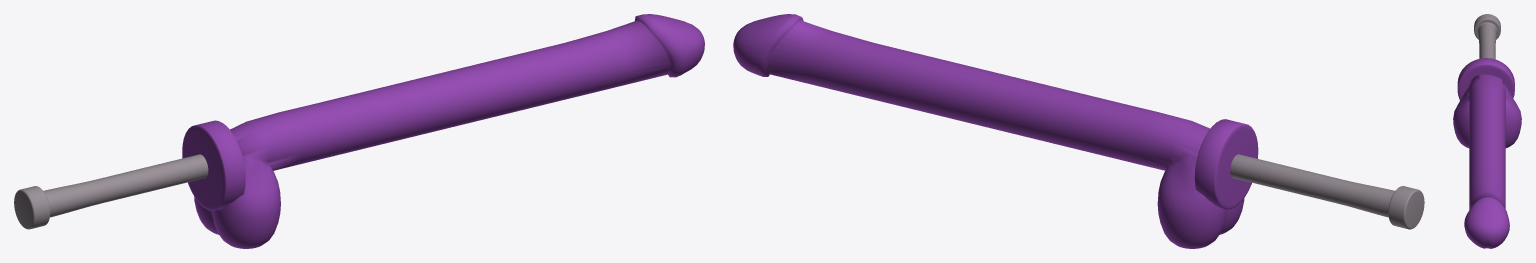
File: dickweapon.fbx
3 views of the same model, side by side, from view 1: azimuth 30°, elevation 25°; view 2: azimuth 150°, elevation 25°; view 3: azimuth 270°, elevation 25° (orthographic). The views are drawn at different scales.
Parts seen in each view (by area): view 1: Cylinder, Cylinder.002, Cylinder.001; view 2: Cylinder, Cylinder.002, Cylinder.001; view 3: Cylinder, Cylinder.001, Cylinder.002.
Part boxes in pixels (x1,y1,x2,y2): Cylinder: (194,14,704,248); Cylinder.002: (14,154,208,229); Cylinder.001: (182,120,245,210); Cylinder: (733,14,1244,248); Cylinder.002: (1230,154,1424,229); Cylinder.001: (1194,119,1258,209); Cylinder: (1453,74,1521,248); Cylinder.001: (1457,58,1514,100); Cylinder.002: (1474,14,1500,59).
Size of the model in its own units: 421 by 72.18 by 56.61.
